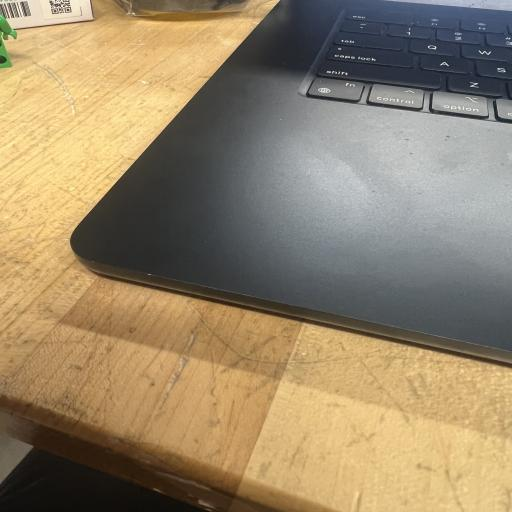green-lego-minifigure-detector: (0, 14, 17, 68)
